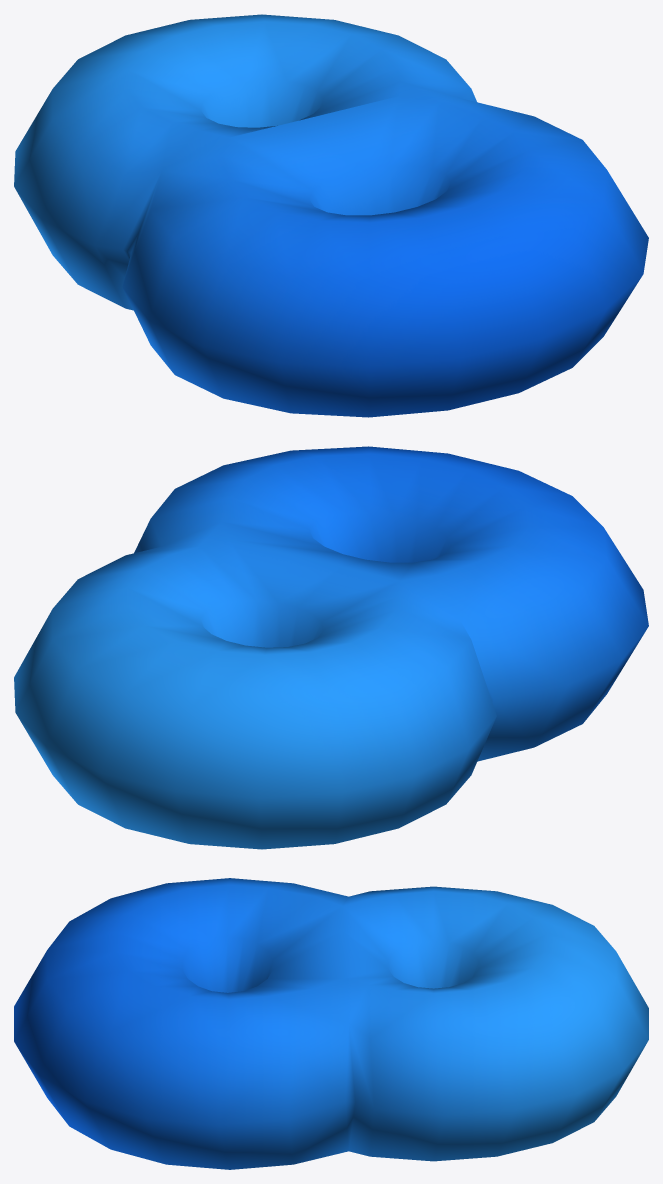
File: CartoonFont_8.FBX
3 renders of one model, top to bottom at view 1: azimuth 30°, elevation 25°; view 2: azimuth 150°, elevation 25°; view 3: azimuth 270°, elevation 25°, orthographic. The views are drawn at different scales.
Parts seen in each view (by area): view 1: 8; view 2: 8; view 3: 8.
Part boxes in pixels (x1,y1,x2,y2): 8: (14,14,648,417); 8: (14,446,648,849); 8: (14,878,648,1169).
Bounding box in the file's own units: 23.74 × 8.95 × 31.58.
Materials: 1 (1 with a texture image).
